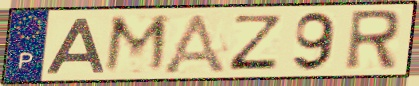9: (291, 10, 340, 73)
A: (157, 10, 230, 75), (43, 16, 107, 75)
M: (100, 13, 173, 76)
R: (341, 8, 403, 73)
Z: (225, 13, 285, 72)
